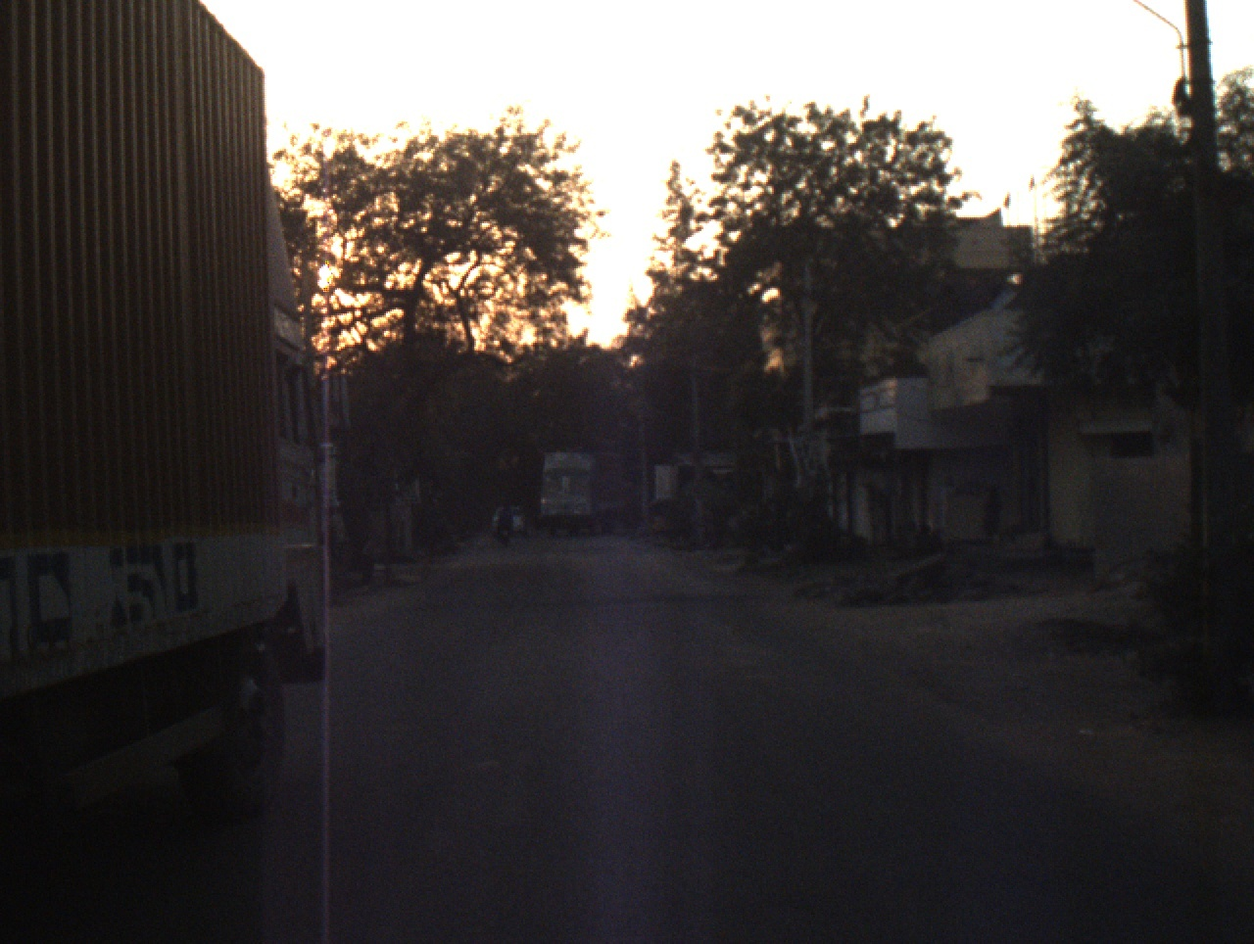car: (488, 500, 524, 535)
motorcycle: (494, 518, 506, 539)
rider: (494, 506, 511, 535)
truck: (8, 1, 356, 833), (531, 436, 637, 539)
